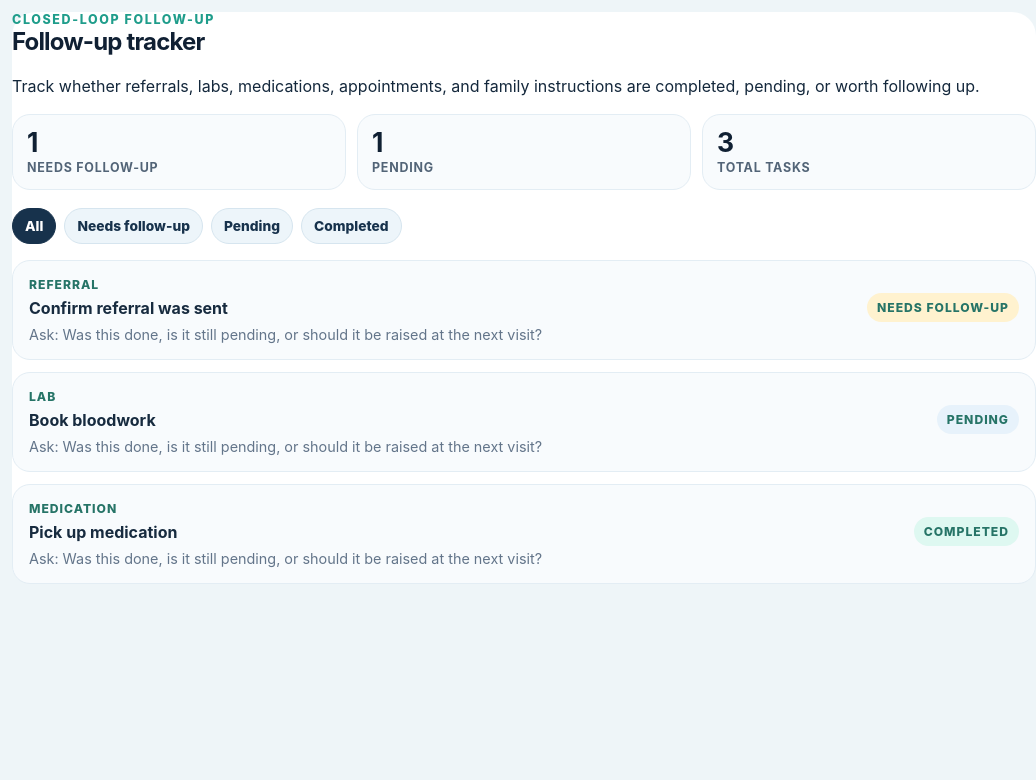
it: FollowUpTracker › filters tasks by status
Click the button "Needs follow-up" at (134, 226), box [64,208,203,244]
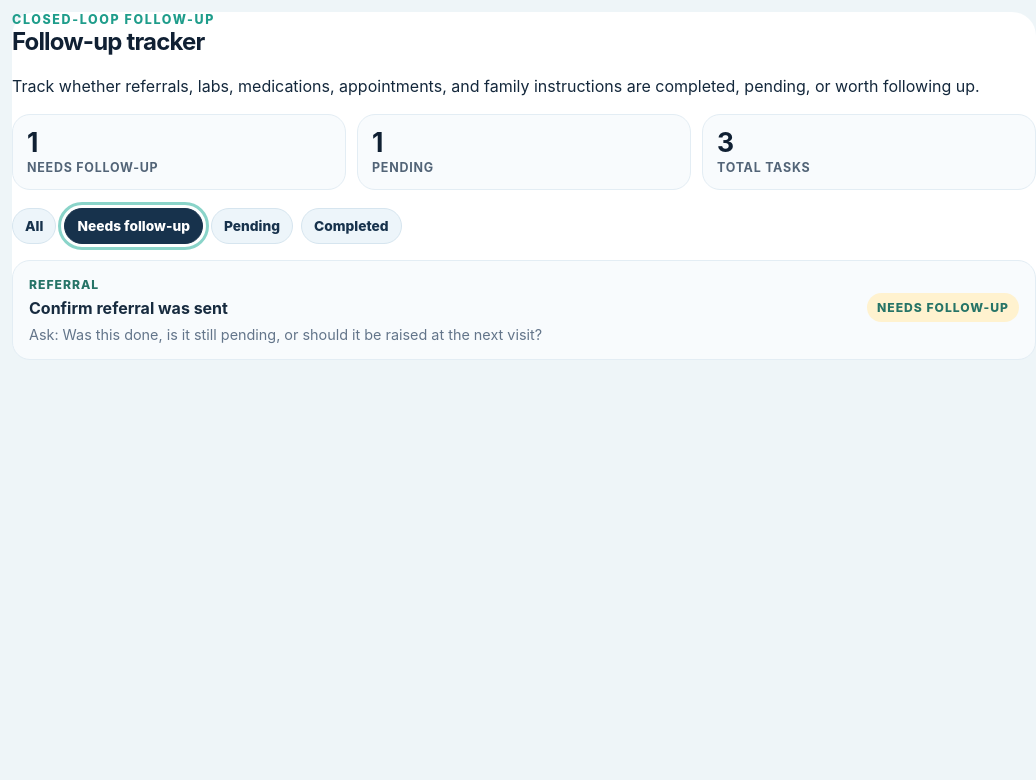
Expected: the heading "Confirm referral was sent" is shown, [29,298,228,318]
Result: the heading "Book bloodwork" is gone
Result: the heading "Pick up medication" is gone
